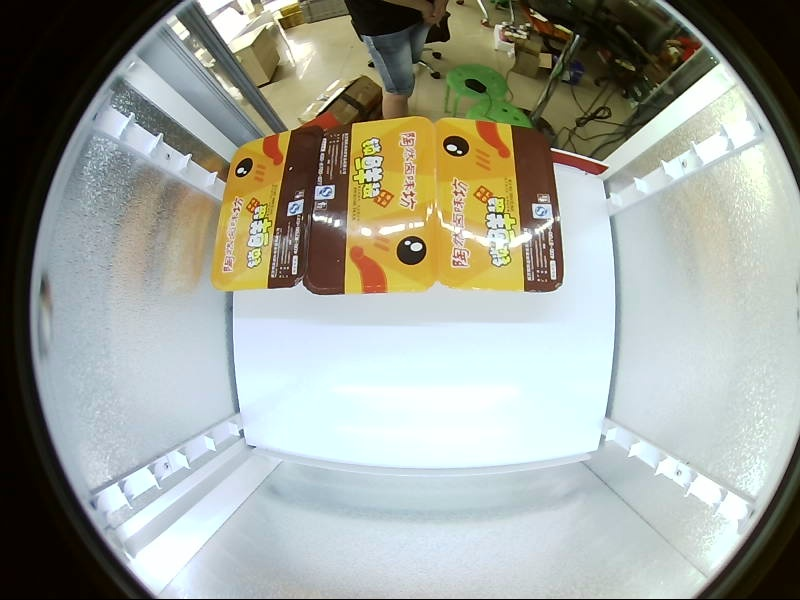ops-m155: (376, 268, 566, 477), (221, 289, 377, 480), (377, 133, 580, 275), (418, 195, 552, 398), (287, 194, 419, 397), (301, 114, 438, 298), (428, 114, 566, 294)
